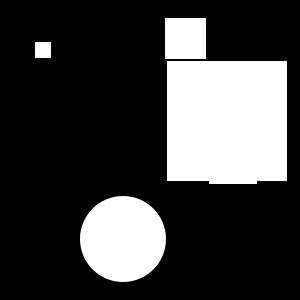circle: (167, 61, 287, 181), (209, 136, 257, 184), (165, 18, 206, 59), (35, 42, 51, 58)
rectangle: (80, 196, 166, 282)
